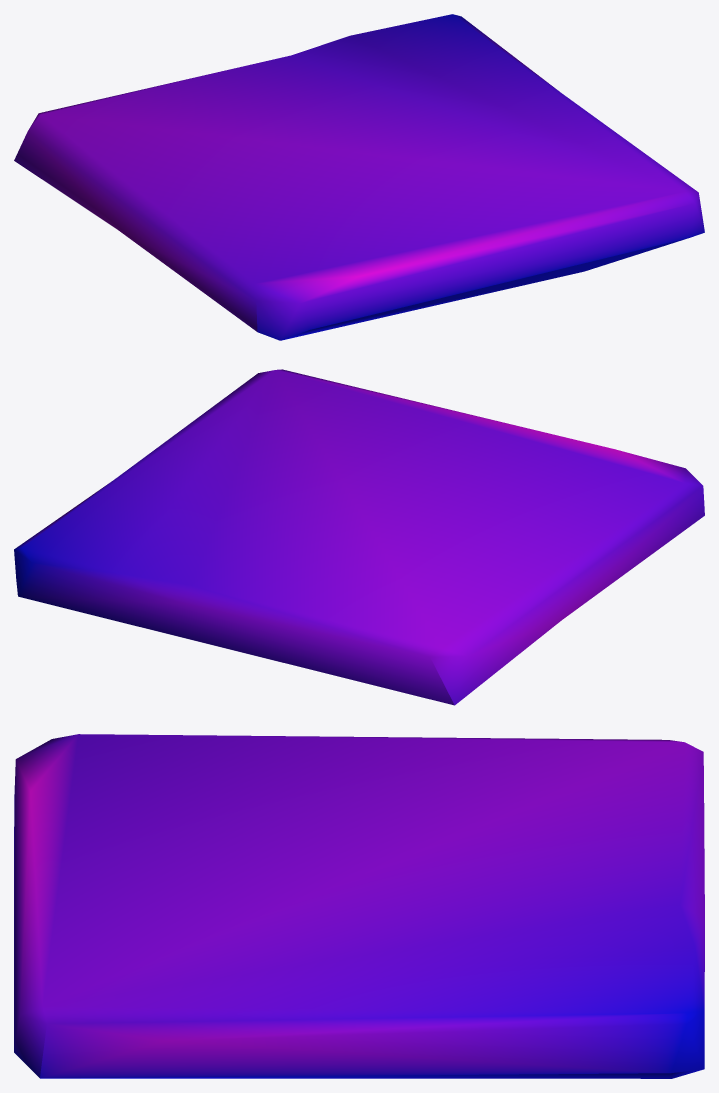
The model's file is SM_Floor_Tile_C.FBX.
3 views of the same model, one above another, from view 1: azimuth 30°, elevation 25°; view 2: azimuth 150°, elevation 25°; view 3: azimuth 270°, elevation 25° (orthographic). The views are drawn at different scales.
Parts seen in each view (by area): view 1: SM_Floor_Tile_C; view 2: SM_Floor_Tile_C; view 3: SM_Floor_Tile_C.
Boxes of the visible parts, x1=… form: SM_Floor_Tile_C: x1=14, y1=14, x2=704, y2=340; SM_Floor_Tile_C: x1=14, y1=369, x2=704, y2=705; SM_Floor_Tile_C: x1=14, y1=734, x2=704, y2=1078.
Size of what is drawn, in the model's own units: 100 by 100 by 10.1.
